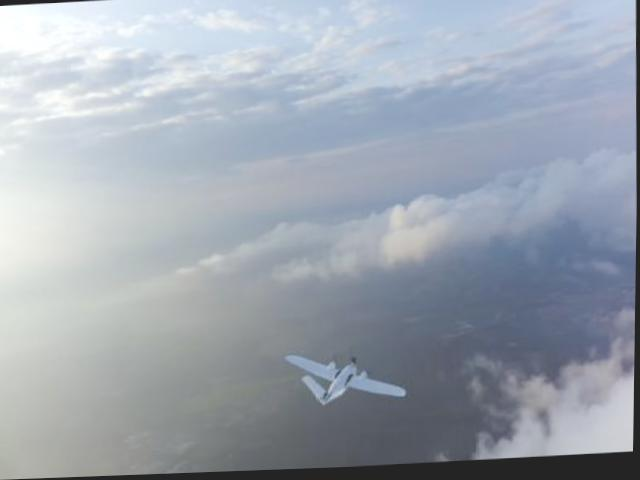uav: (283, 349, 413, 409)
